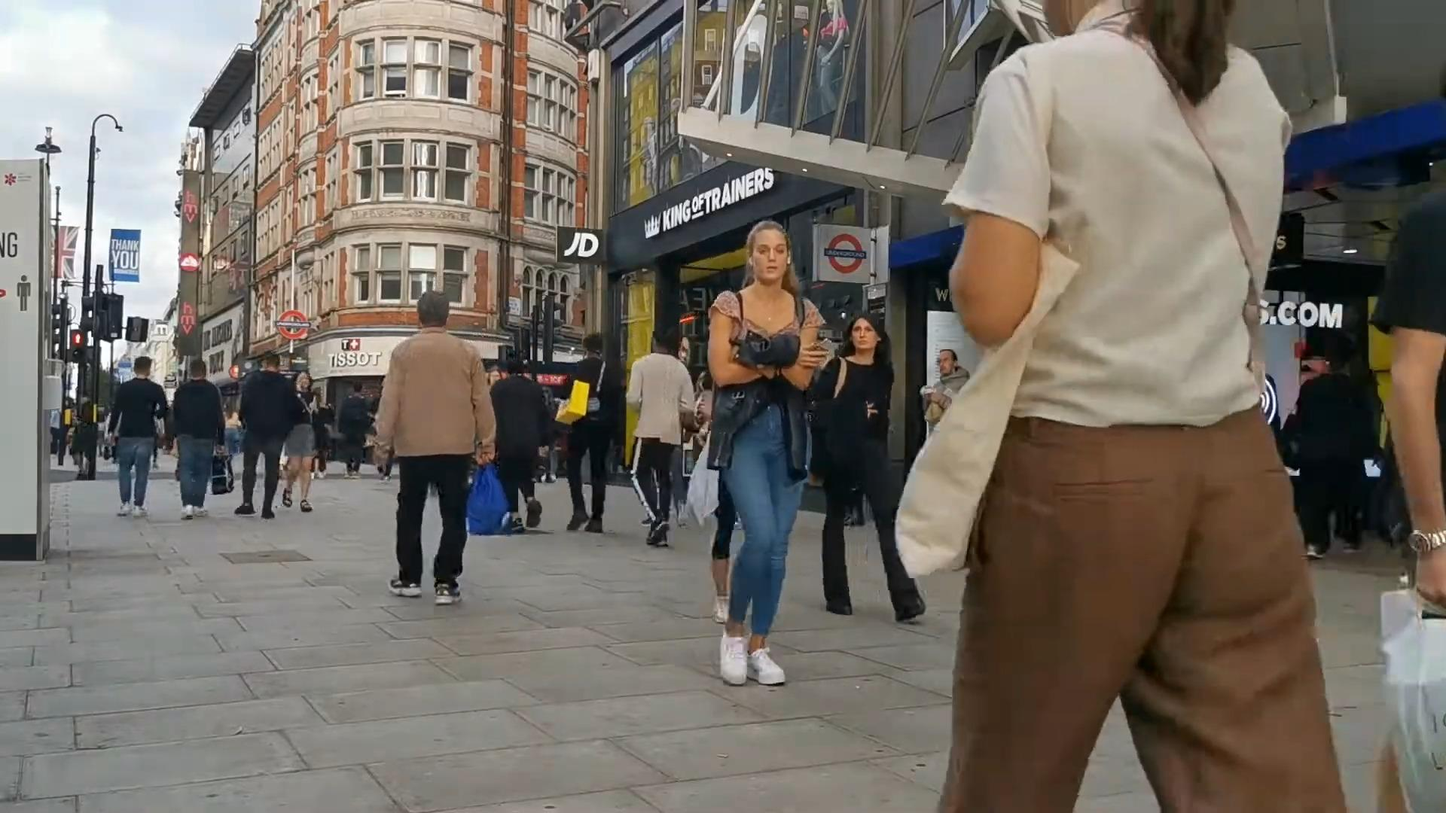no-helmet: (747, 220, 793, 287), (845, 313, 891, 353), (417, 288, 451, 328), (289, 368, 313, 391), (939, 348, 958, 376), (487, 366, 502, 385)
